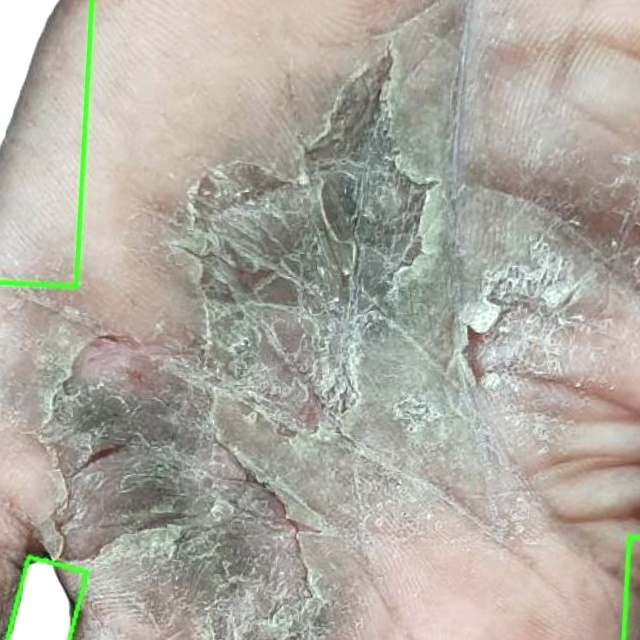Contact Dermatitis: (6, 557, 86, 639)
